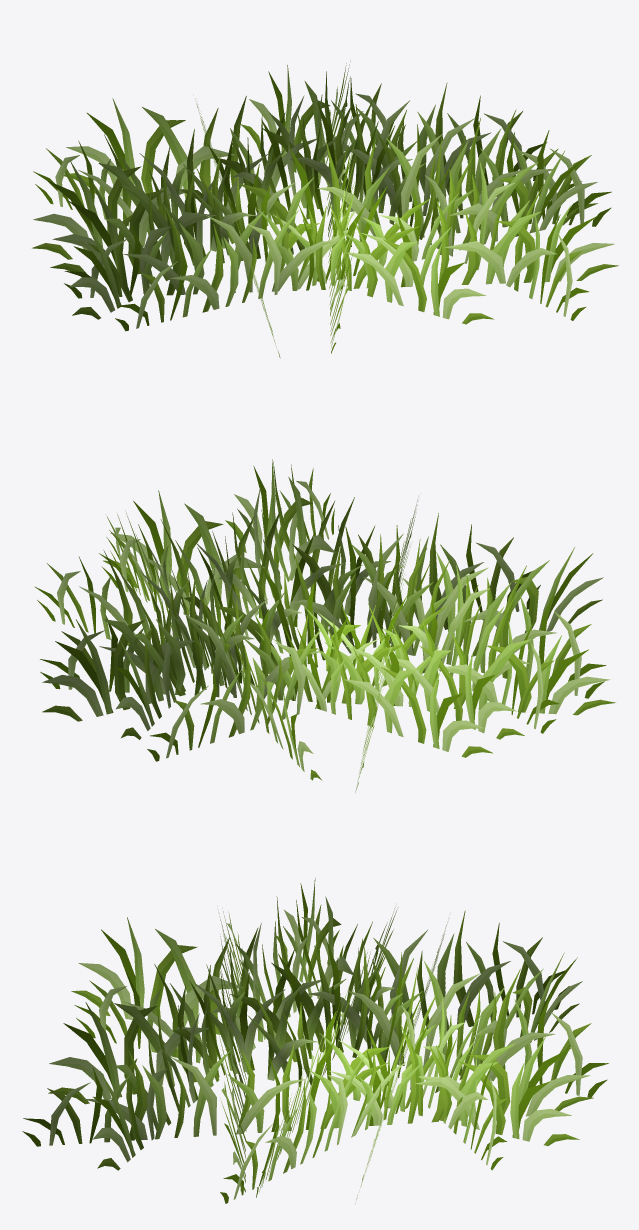
Rendered from SM_Grass_Shorts_001.fbx.
3 renders of one model, top to bottom at view 1: azimuth 30°, elevation 25°; view 2: azimuth 150°, elevation 25°; view 3: azimuth 270°, elevation 25°, orthographic. The views are drawn at different scales.
Parts seen in each view (by area): view 1: SM_Grass_Shorts_001; view 2: SM_Grass_Shorts_001; view 3: SM_Grass_Shorts_001.
Boxes of the visible parts, x1,y1,x2,y2 form: SM_Grass_Shorts_001: (32,61,618,358); SM_Grass_Shorts_001: (34,459,615,792); SM_Grass_Shorts_001: (22,878,608,1203).
Size of the model in its own units: 55.28 by 10.58 by 51.86.
